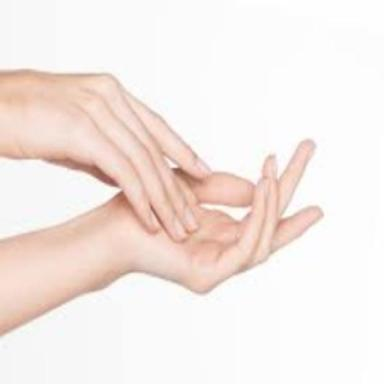normal skin: (0, 140, 323, 333), (0, 70, 211, 240)
